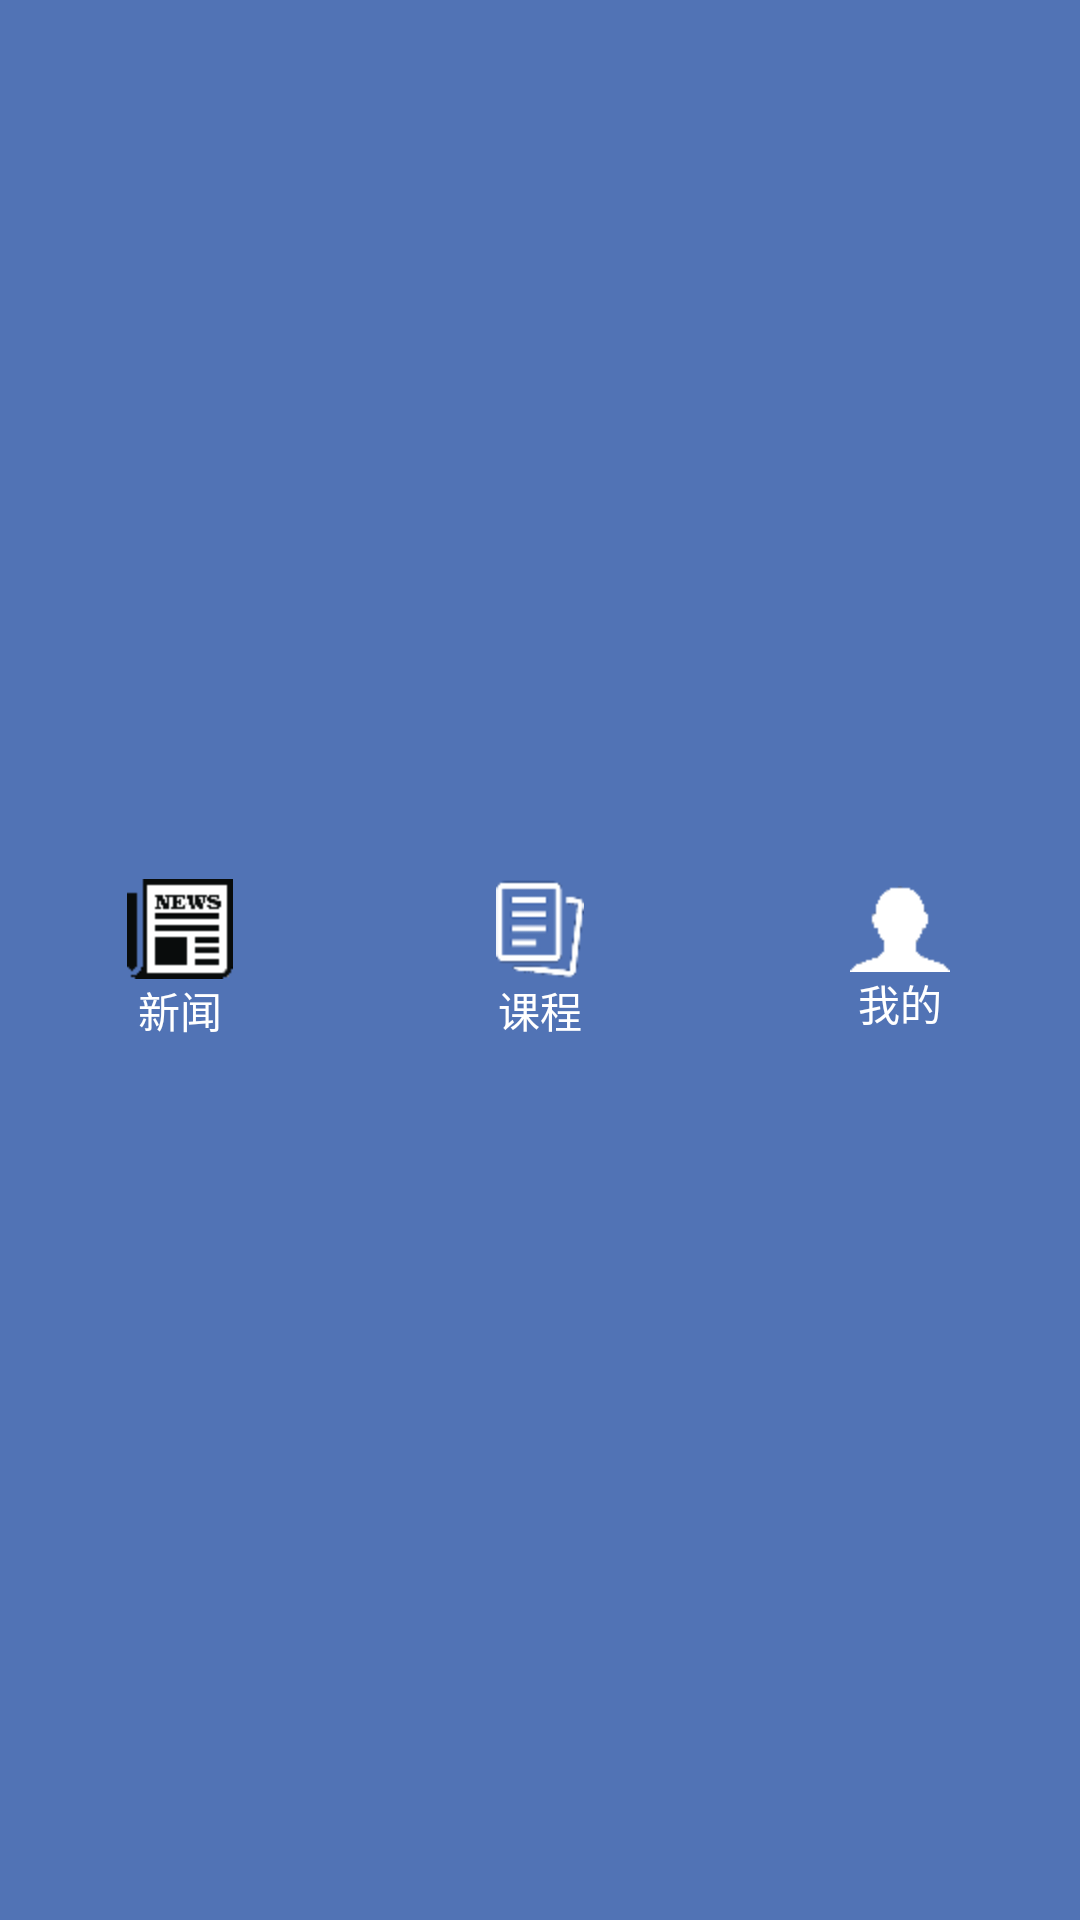

Locate icon controls on the screen. Image size 1080px x 1920px, boxes as [x1,y1,x2,y2].
project: [496,881,584,978]
